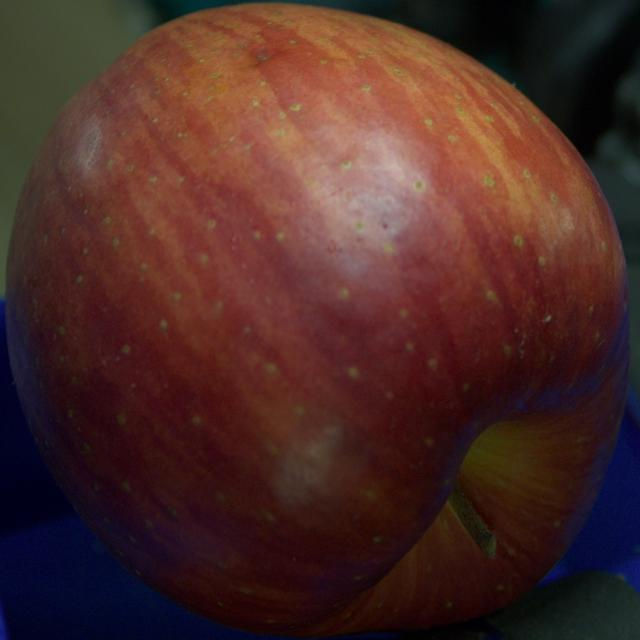apple: (6, 4, 629, 635)
pest: (252, 50, 277, 65)
